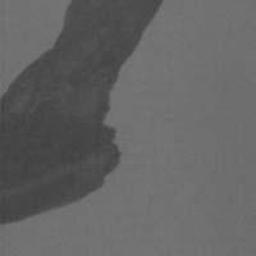Oil spot: (0, 0, 166, 227)
